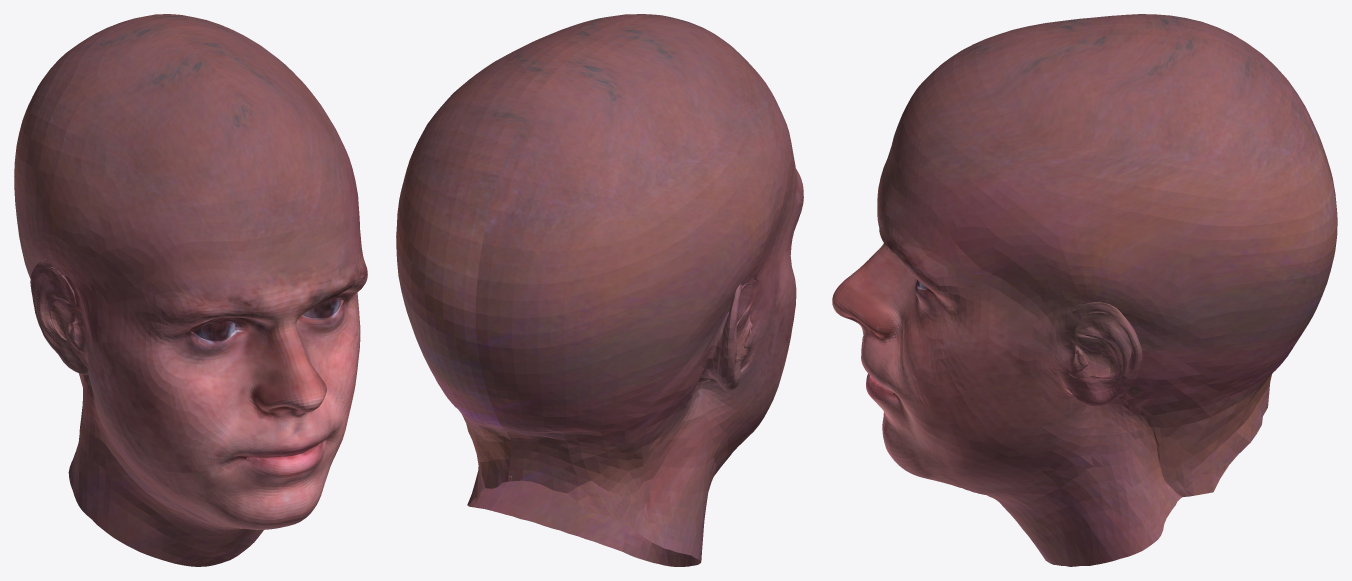
File: result_prompt.obj
3 renders of one model, left to right at view 1: azimuth 30°, elevation 25°; view 2: azimuth 150°, elevation 25°; view 3: azimuth 270°, elevation 25°, orthographic. The views are drawn at different scales.
Size of the model in its own units: 202 by 324 by 281.
